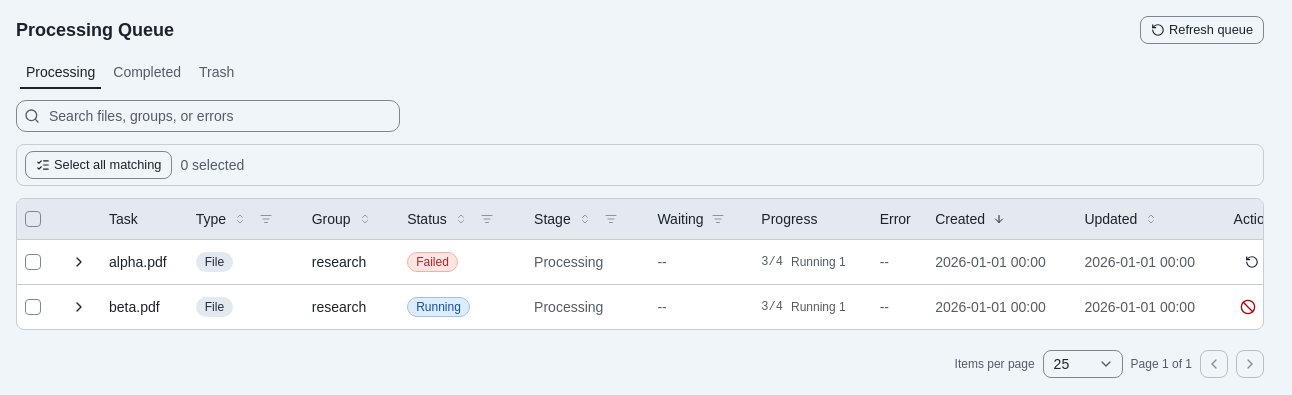
Test: ProcessingQueuePage › selects rows with checkboxes and offers contextual bulk actions
The image size is (1292, 395).
Expected: the text "alpha.pdf" is shown, [109,254,167,270]
Expected: the text with test id "queue-selection-count" reads "0 selected", [180,157,244,173]
What coordinates should you click on to do the following:
click the checkbox named "Select alpha.pdf"
I would click on:
 (33, 262)
Its box is [25,254,41,270].
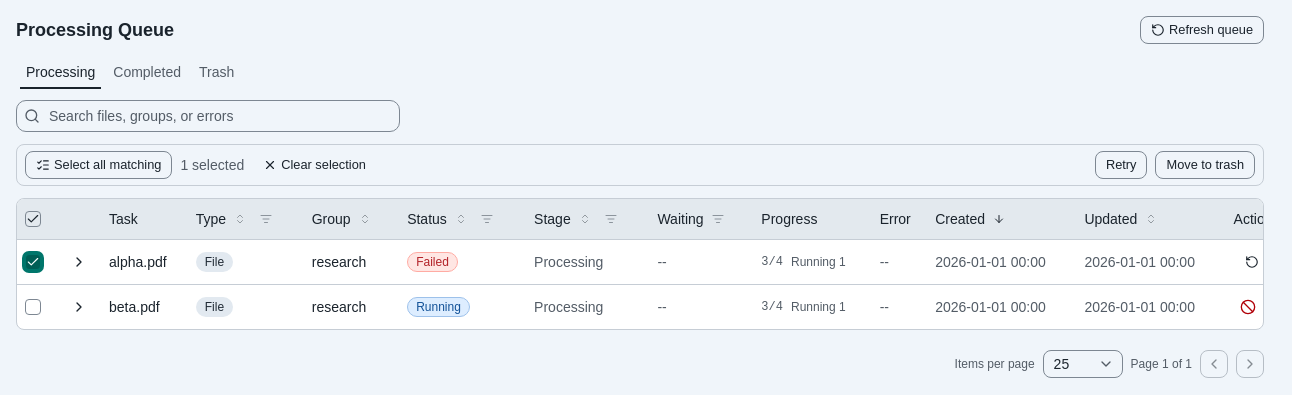
Now the text with test id "queue-selection-count" reads "1 selected", box [180,157,244,173]
Now the button "Retry" is shown, box [1095,151,1148,179]
Now the button "Move to trash" is shown, box [1156,151,1255,179]
What coordinates should you click on to do the following:
click the checkbox named "Select beta.pdf"
I would click on:
 (33, 306)
Its box is [25,298,41,314].
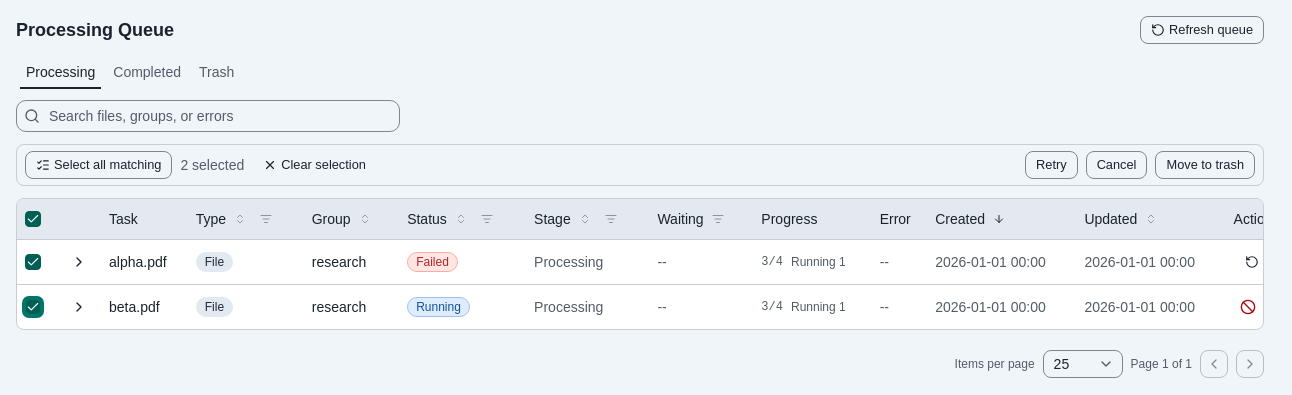
Now the text with test id "queue-selection-count" reads "2 selected", box [180,157,244,173]
Now the button "Cancel" is shown, box [1086,151,1147,179]
What coordinates should you click on to do the following:
click the button "Clear selection"
I would click on:
 (315, 165)
Its box is [252,151,377,179].
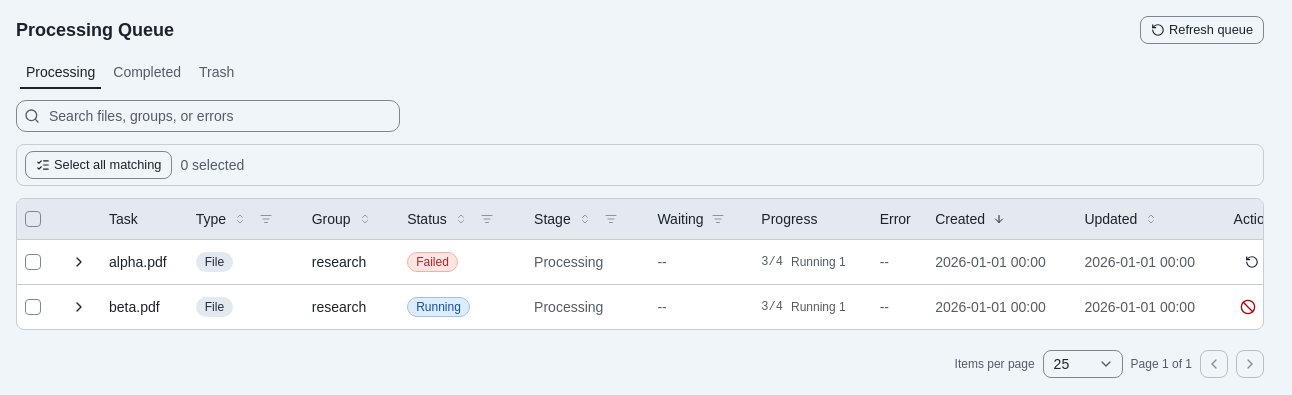
Now the text with test id "queue-selection-count" reads "0 selected", box [180,157,244,173]
